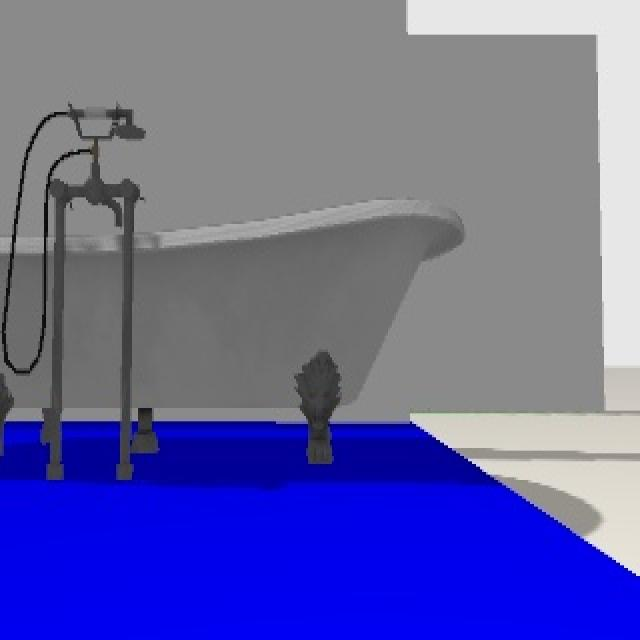bathtub: (2, 104, 469, 471)
